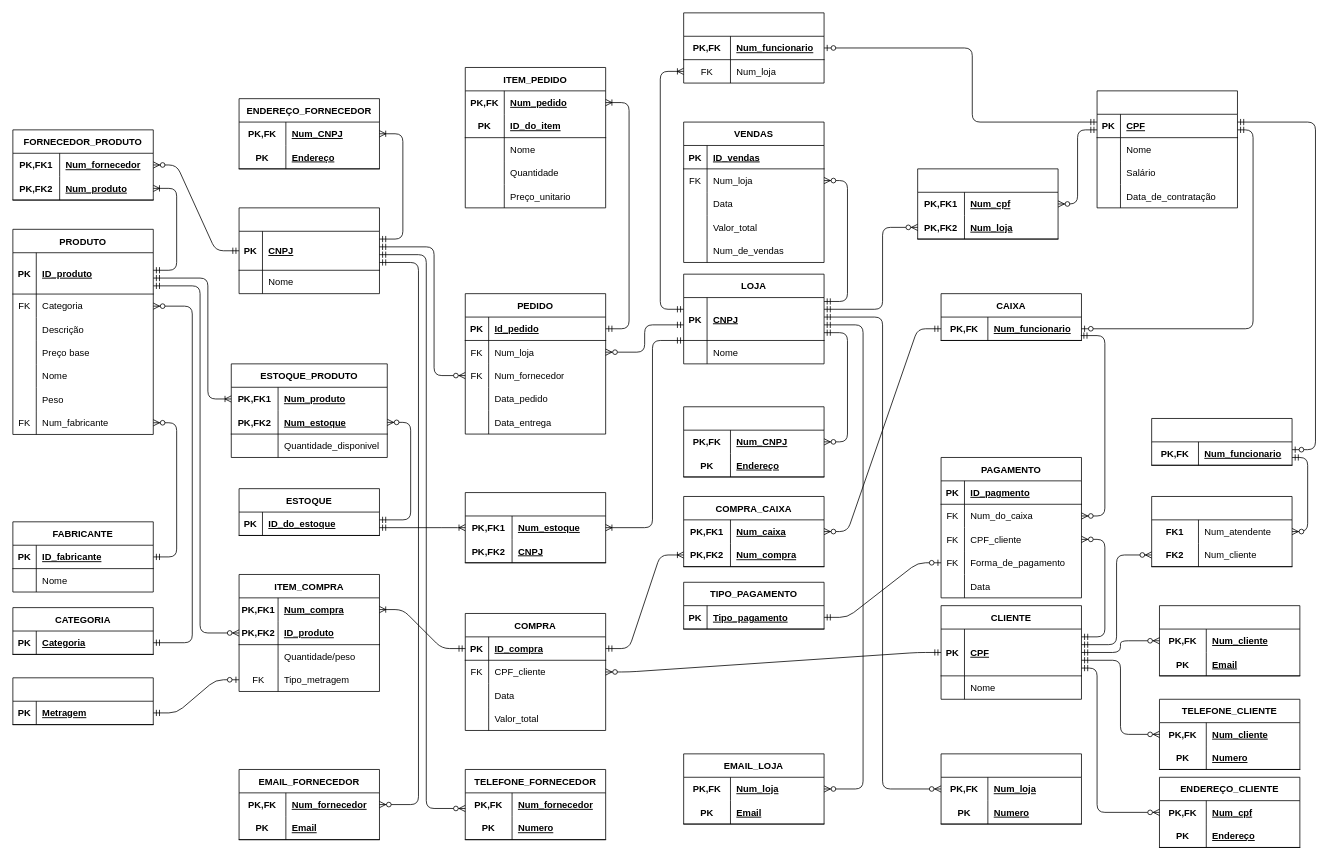
The diagram is 1328 pixels wide and 860 high, and some of its shapes have lost their labels. Here are the shapes that lost their labels. From the top down, the box of each, then its label:
(683, 12, 824, 83): GERENTE
(1096, 90, 1237, 208): FUNCIONARIO
(917, 168, 1058, 239): FUNCIONARIO_LOJA
(238, 207, 379, 294): FORNECEDOR
(683, 406, 824, 477): ENDEREÇO_LOJA
(1151, 418, 1292, 465): ATENDENTE
(464, 492, 606, 563): LOJA_ESTOQUE
(1151, 496, 1292, 567): CLIENTE_ATENDENTE
(1159, 605, 1300, 676): EMAIL_CLIENTE
(12, 677, 153, 725): METRAGEM_PESO_UNIDADE
(940, 753, 1081, 824): TELEFONE_LOJA
